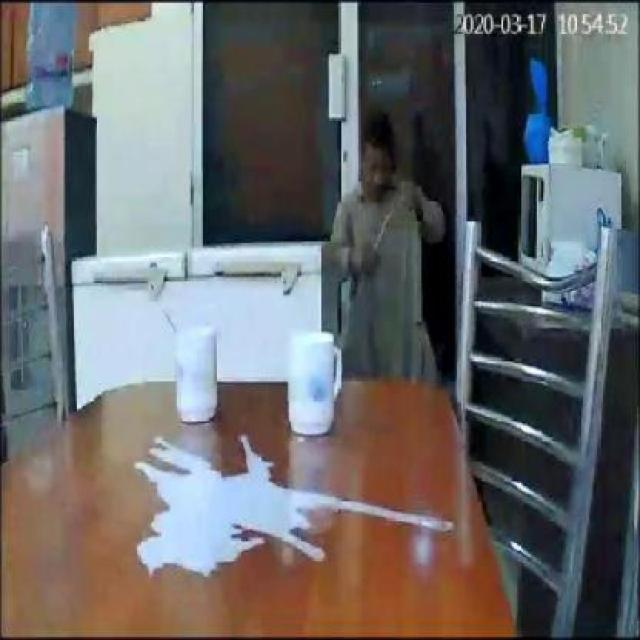spillage: (134, 436, 438, 577)
